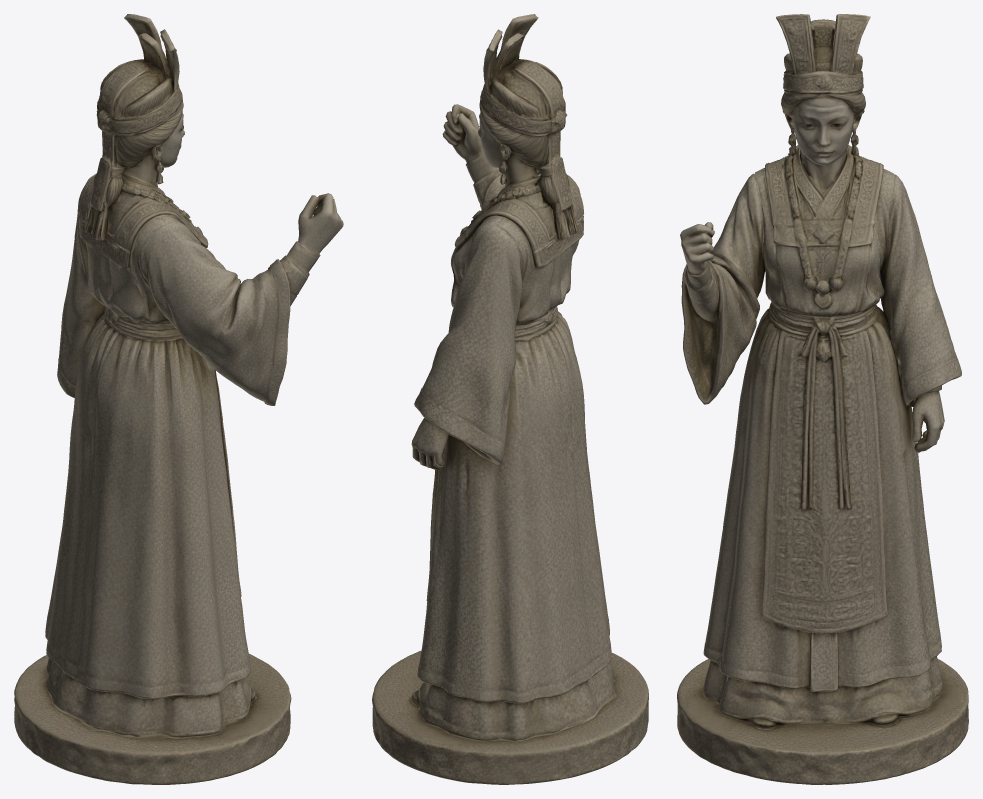
File: ancient_chinese_queen_3d_model.fbx
The picture shows the model from 3 angles, left to right: view 1: azimuth 30°, elevation 25°; view 2: azimuth 150°, elevation 25°; view 3: azimuth 270°, elevation 25°; orthographic projection.
Parts seen in each view (by area): view 1: tripo_node_233ddf1b; view 2: tripo_node_233ddf1b; view 3: tripo_node_233ddf1b.
Boxes of the visible parts, bbox=[...] form: tripo_node_233ddf1b: bbox=[14, 14, 343, 784]; tripo_node_233ddf1b: bbox=[372, 14, 648, 784]; tripo_node_233ddf1b: bbox=[677, 14, 968, 784].
Size of the model in its own units: 0.3587 by 0.9809 by 0.3622.
